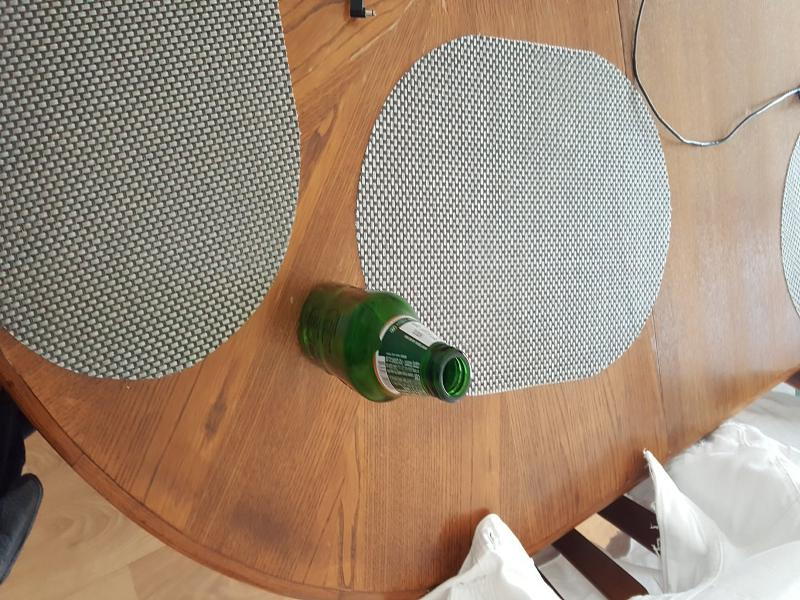Beer: (295, 285, 470, 402)
